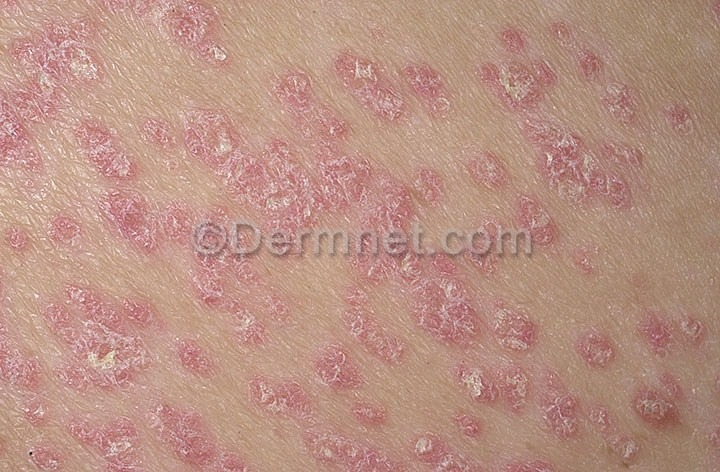Psoriasis: (13, 17, 701, 465)
